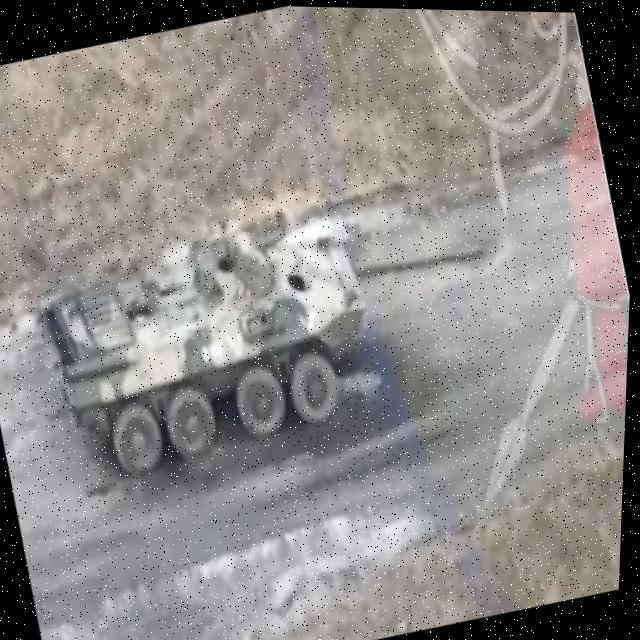MIL_APC: (8, 146, 417, 495)
